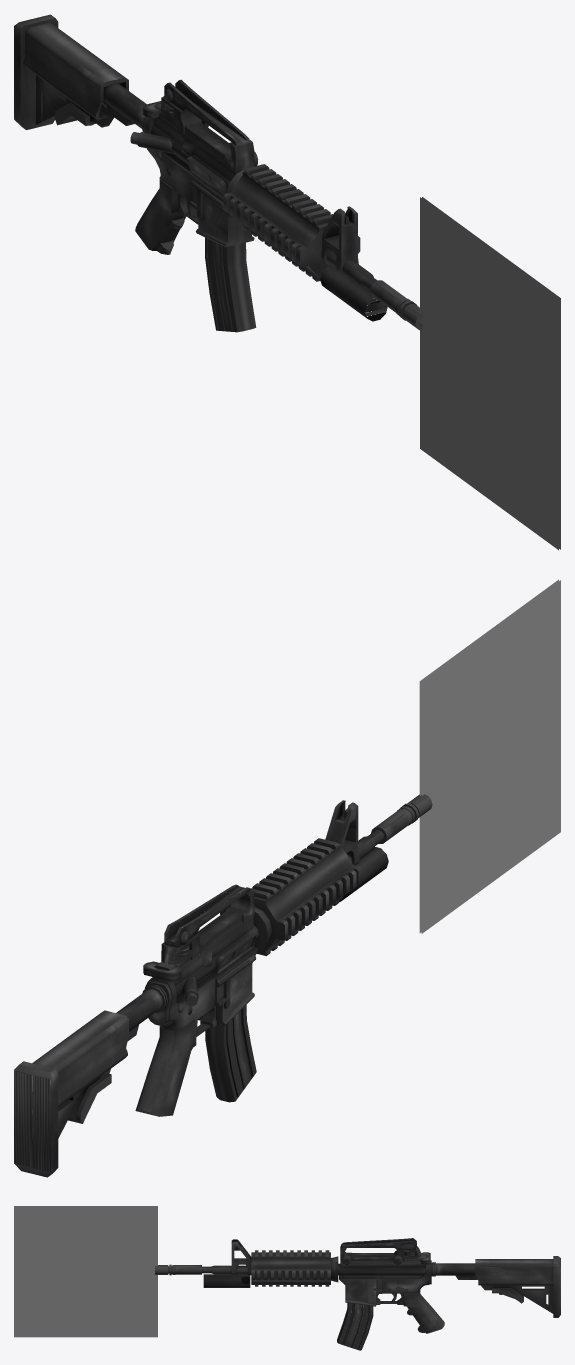
The picture shows the model from 3 angles, top to bottom: view 1: azimuth 30°, elevation 25°; view 2: azimuth 150°, elevation 25°; view 3: azimuth 270°, elevation 25°; orthographic projection. The views are drawn at different scales.
Parts seen in each view (by area): view 1: MuzzleFlash, M4A1_Sopmod_Body, M4A1_Sopmod_Iron_Sight, M4A1_Sopmod_Magazine; view 2: MuzzleFlash, M4A1_Sopmod_Body, M4A1_Sopmod_Iron_Sight, M4A1_Sopmod_Magazine; view 3: MuzzleFlash, M4A1_Sopmod_Body, M4A1_Sopmod_Iron_Sight, M4A1_Sopmod_Magazine.
Boxes of the visible parts, x1=… form: MuzzleFlash: x1=420, y1=197, x2=560, y2=550; M4A1_Sopmod_Body: x1=14, y1=14, x2=422, y2=330; M4A1_Sopmod_Iron_Sight: x1=161, y1=79, x2=258, y2=172; M4A1_Sopmod_Magazine: x1=205, y1=237, x2=256, y2=332; MuzzleFlash: x1=419, y1=579, x2=560, y2=933; M4A1_Sopmod_Body: x1=14, y1=794, x2=432, y2=1177; M4A1_Sopmod_Iron_Sight: x1=161, y1=884, x2=254, y2=966; M4A1_Sopmod_Magazine: x1=205, y1=1005, x2=256, y2=1102; MuzzleFlash: x1=14, y1=1206, x2=157, y2=1337; M4A1_Sopmod_Body: x1=155, y1=1239, x2=560, y2=1333; M4A1_Sopmod_Iron_Sight: x1=340, y1=1238, x2=422, y2=1264; M4A1_Sopmod_Magazine: x1=337, y1=1303, x2=373, y2=1350.
Size of the model in its own units: 0.0393 by 0.1639 by 0.5694.
